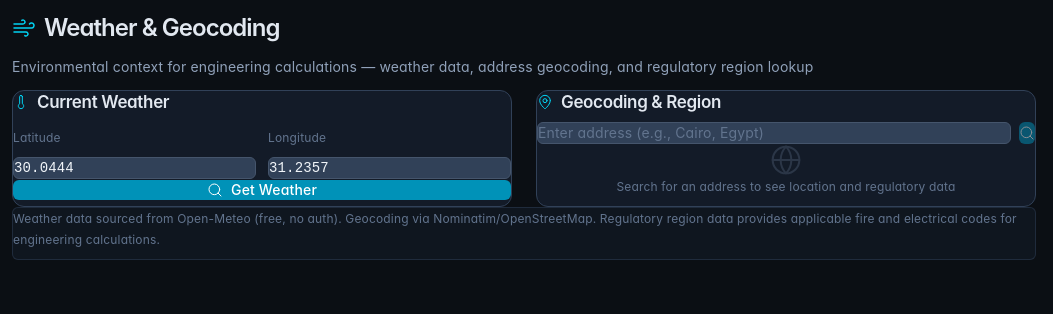
ContextPage › shows geocoding error on failure
Type "Nowhere" into the field with placeholder "Enter address (e.g., Cairo, Egypt)". click: x=774, y=133
box: [537, 122, 1011, 144]
Then press Enter
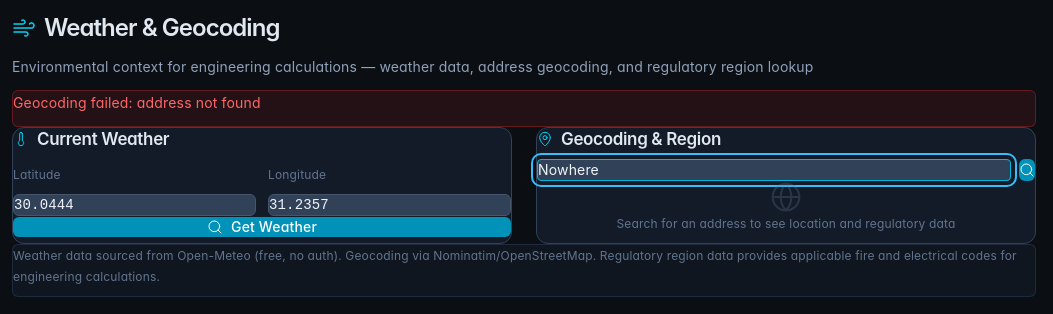
Result: the text "Geocoding failed: address not found" is shown at [13, 94, 261, 111]
